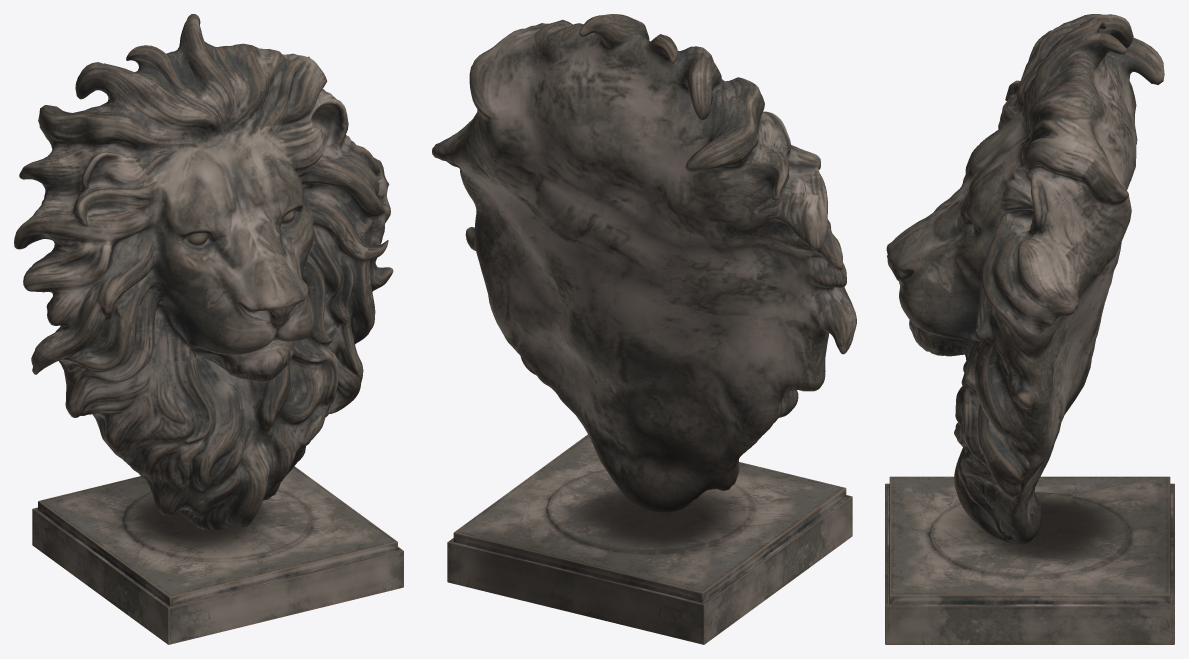
Rendered from lion_head.glb.
3 renders of one model, left to right at view 1: azimuth 30°, elevation 25°; view 2: azimuth 150°, elevation 25°; view 3: azimuth 270°, elevation 25°, orthographic. The views are drawn at different scales.
Visible parts, largest first — view 1: lion_head; view 2: lion_head; view 3: lion_head.
Boxes of the visible parts, box(x1,y1,x2,y2) form: lion_head: box(14, 14, 403, 644); lion_head: box(432, 14, 856, 644); lion_head: box(885, 14, 1174, 644).
Size of the model in its own units: 0.3208 by 0.4364 by 0.2066.
1 material, 1 textured.
